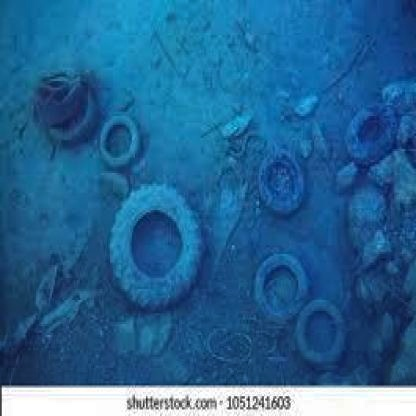tire: (104, 184, 201, 302), (230, 243, 324, 348), (251, 129, 311, 237), (298, 289, 360, 370), (100, 114, 140, 166)
